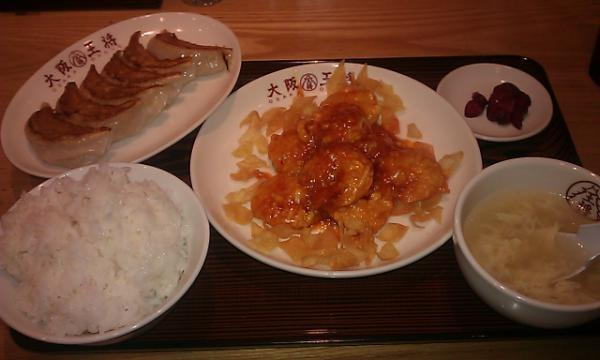plate: (190, 63, 481, 275), (0, 164, 208, 343)
rice: (0, 166, 207, 336)
